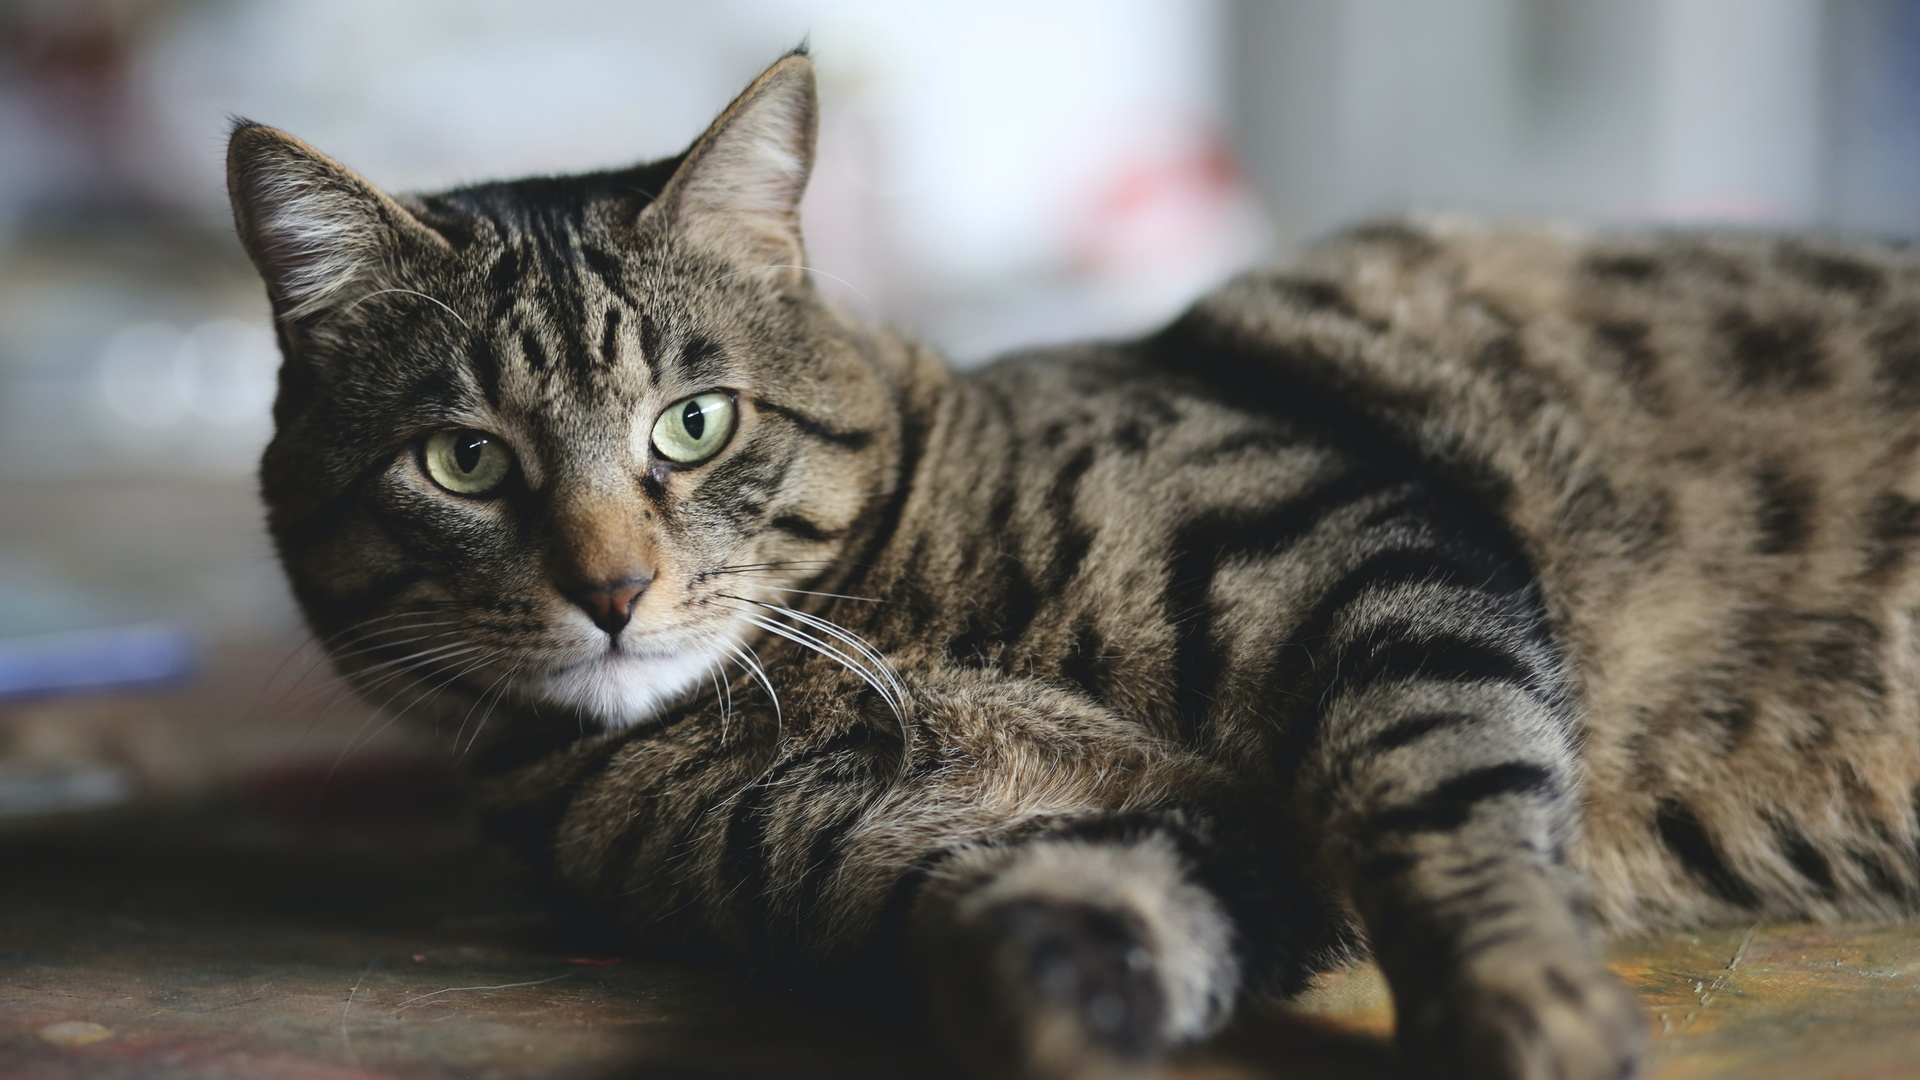cat: (210, 37, 1917, 1080)
